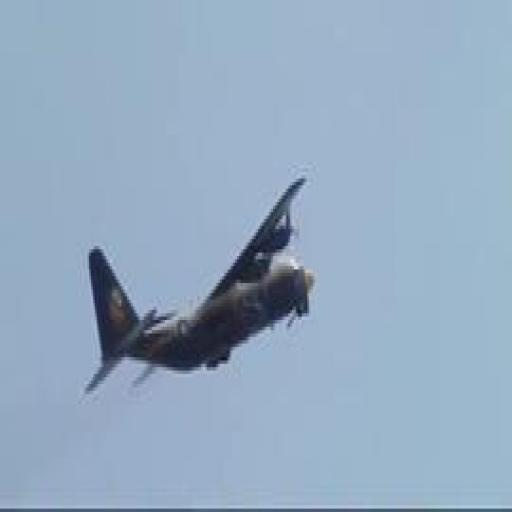aircraft: (87, 174, 315, 390)
